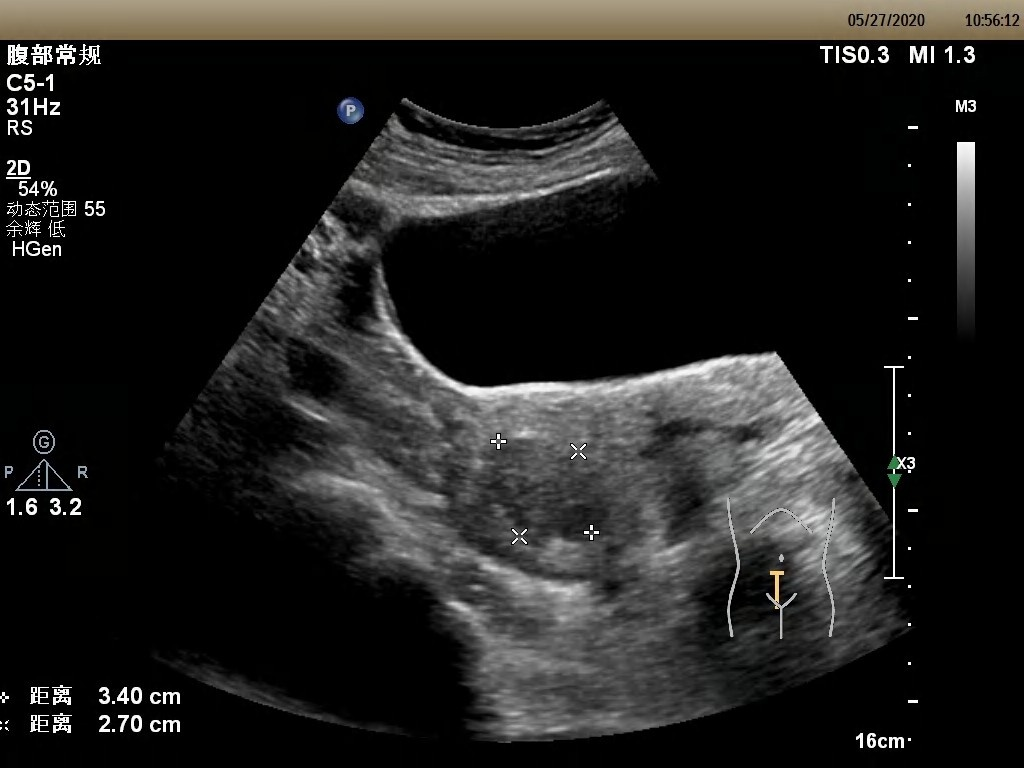肌瘤: (498, 449, 596, 536)
